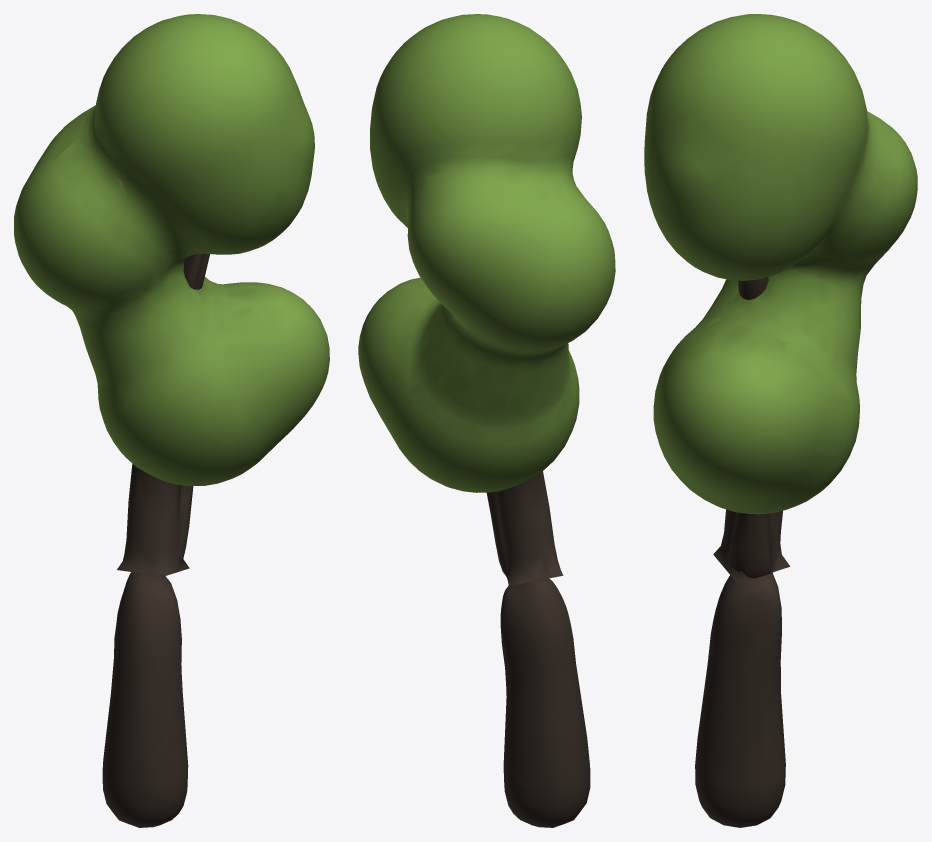
The model's file is tree_11_2.glb.
3 renders of one model, left to right at view 1: azimuth 30°, elevation 25°; view 2: azimuth 150°, elevation 25°; view 3: azimuth 270°, elevation 25°, orthographic. The views are drawn at different scales.
Visible parts, largest first — view 1: canopy, bark; view 2: canopy, bark; view 3: canopy, bark.
Boxes of the visible parts, box(x1,y1,x2,y2) form: canopy: box(14, 14, 329, 485); bark: box(102, 253, 209, 827); canopy: box(358, 14, 615, 492); bark: box(486, 471, 590, 827); canopy: box(644, 14, 917, 514); bark: box(695, 277, 790, 827).
Bounding box in the file's own units: 0.9288 × 2.62 × 0.7822.
